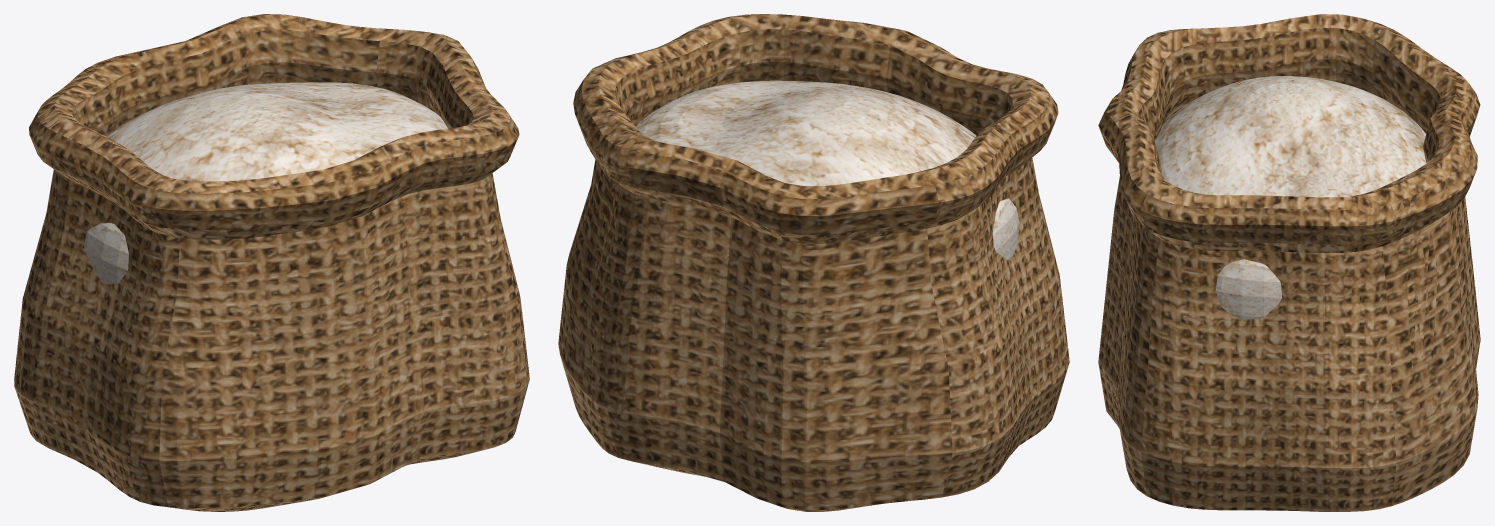
Rendered from flour.obj.
The picture shows the model from 3 angles, left to right: view 1: azimuth 30°, elevation 25°; view 2: azimuth 150°, elevation 25°; view 3: azimuth 270°, elevation 25°; orthographic projection. The views are drawn at different scales.
Parts seen in each view (by area): view 1: sack, flour; view 2: sack, flour; view 3: sack, flour.
Boxes of the visible parts, box(x1,y1,x2,y2) form: sack: box(14, 14, 529, 511); flour: box(84, 82, 447, 284); sack: box(558, 14, 1069, 511); flour: box(635, 80, 1019, 264); sack: box(1098, 14, 1480, 511); flour: box(1154, 76, 1426, 319).
Size of the model in its own units: 116 by 87.44 by 89.96.
